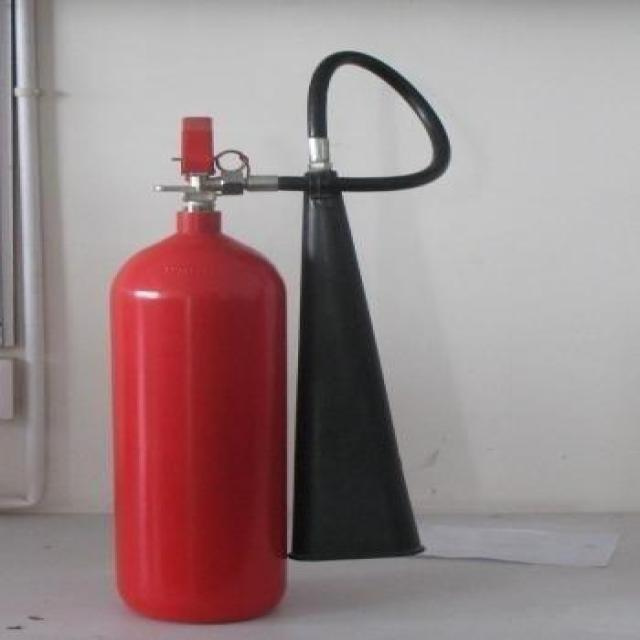fire_extinguisher: (92, 46, 454, 627)
